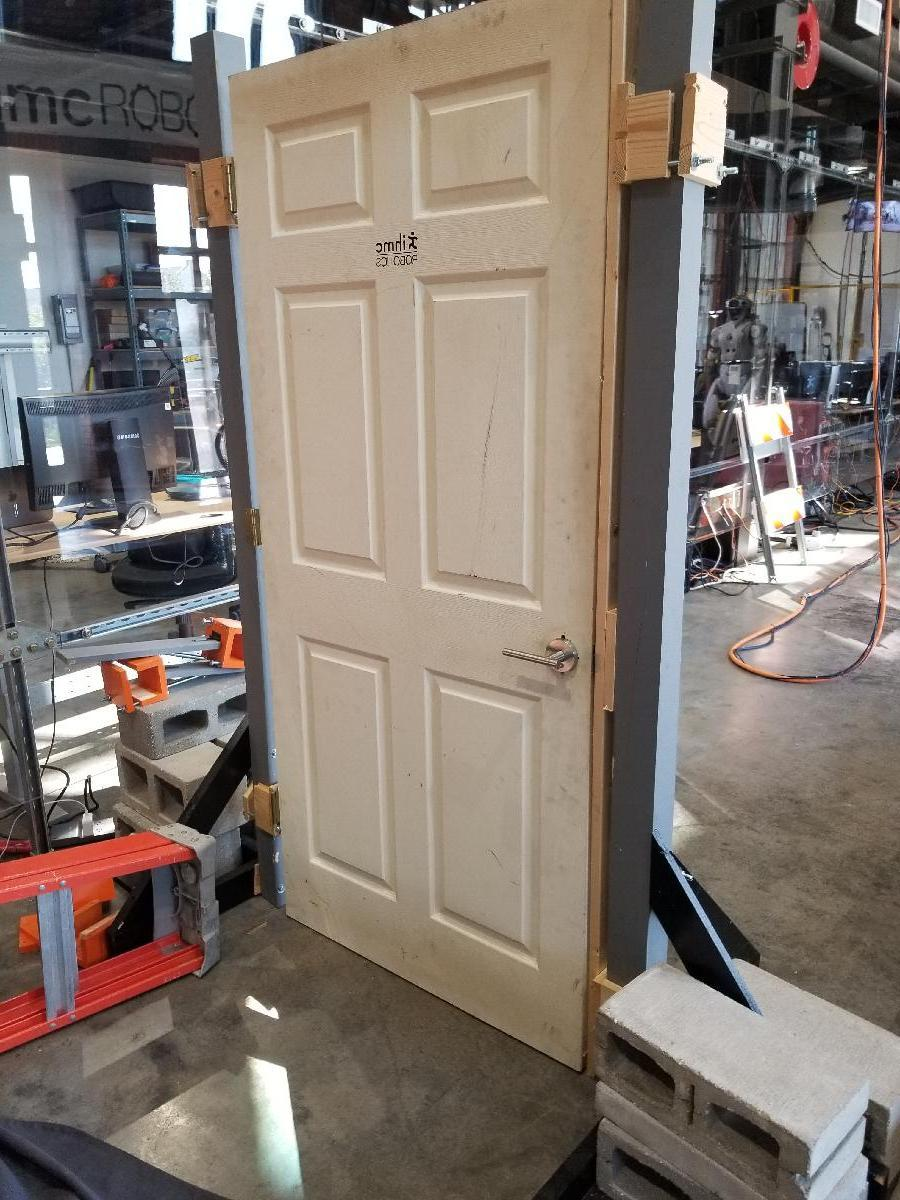door: (230, 15, 602, 1074)
handle: (498, 629, 583, 681)
